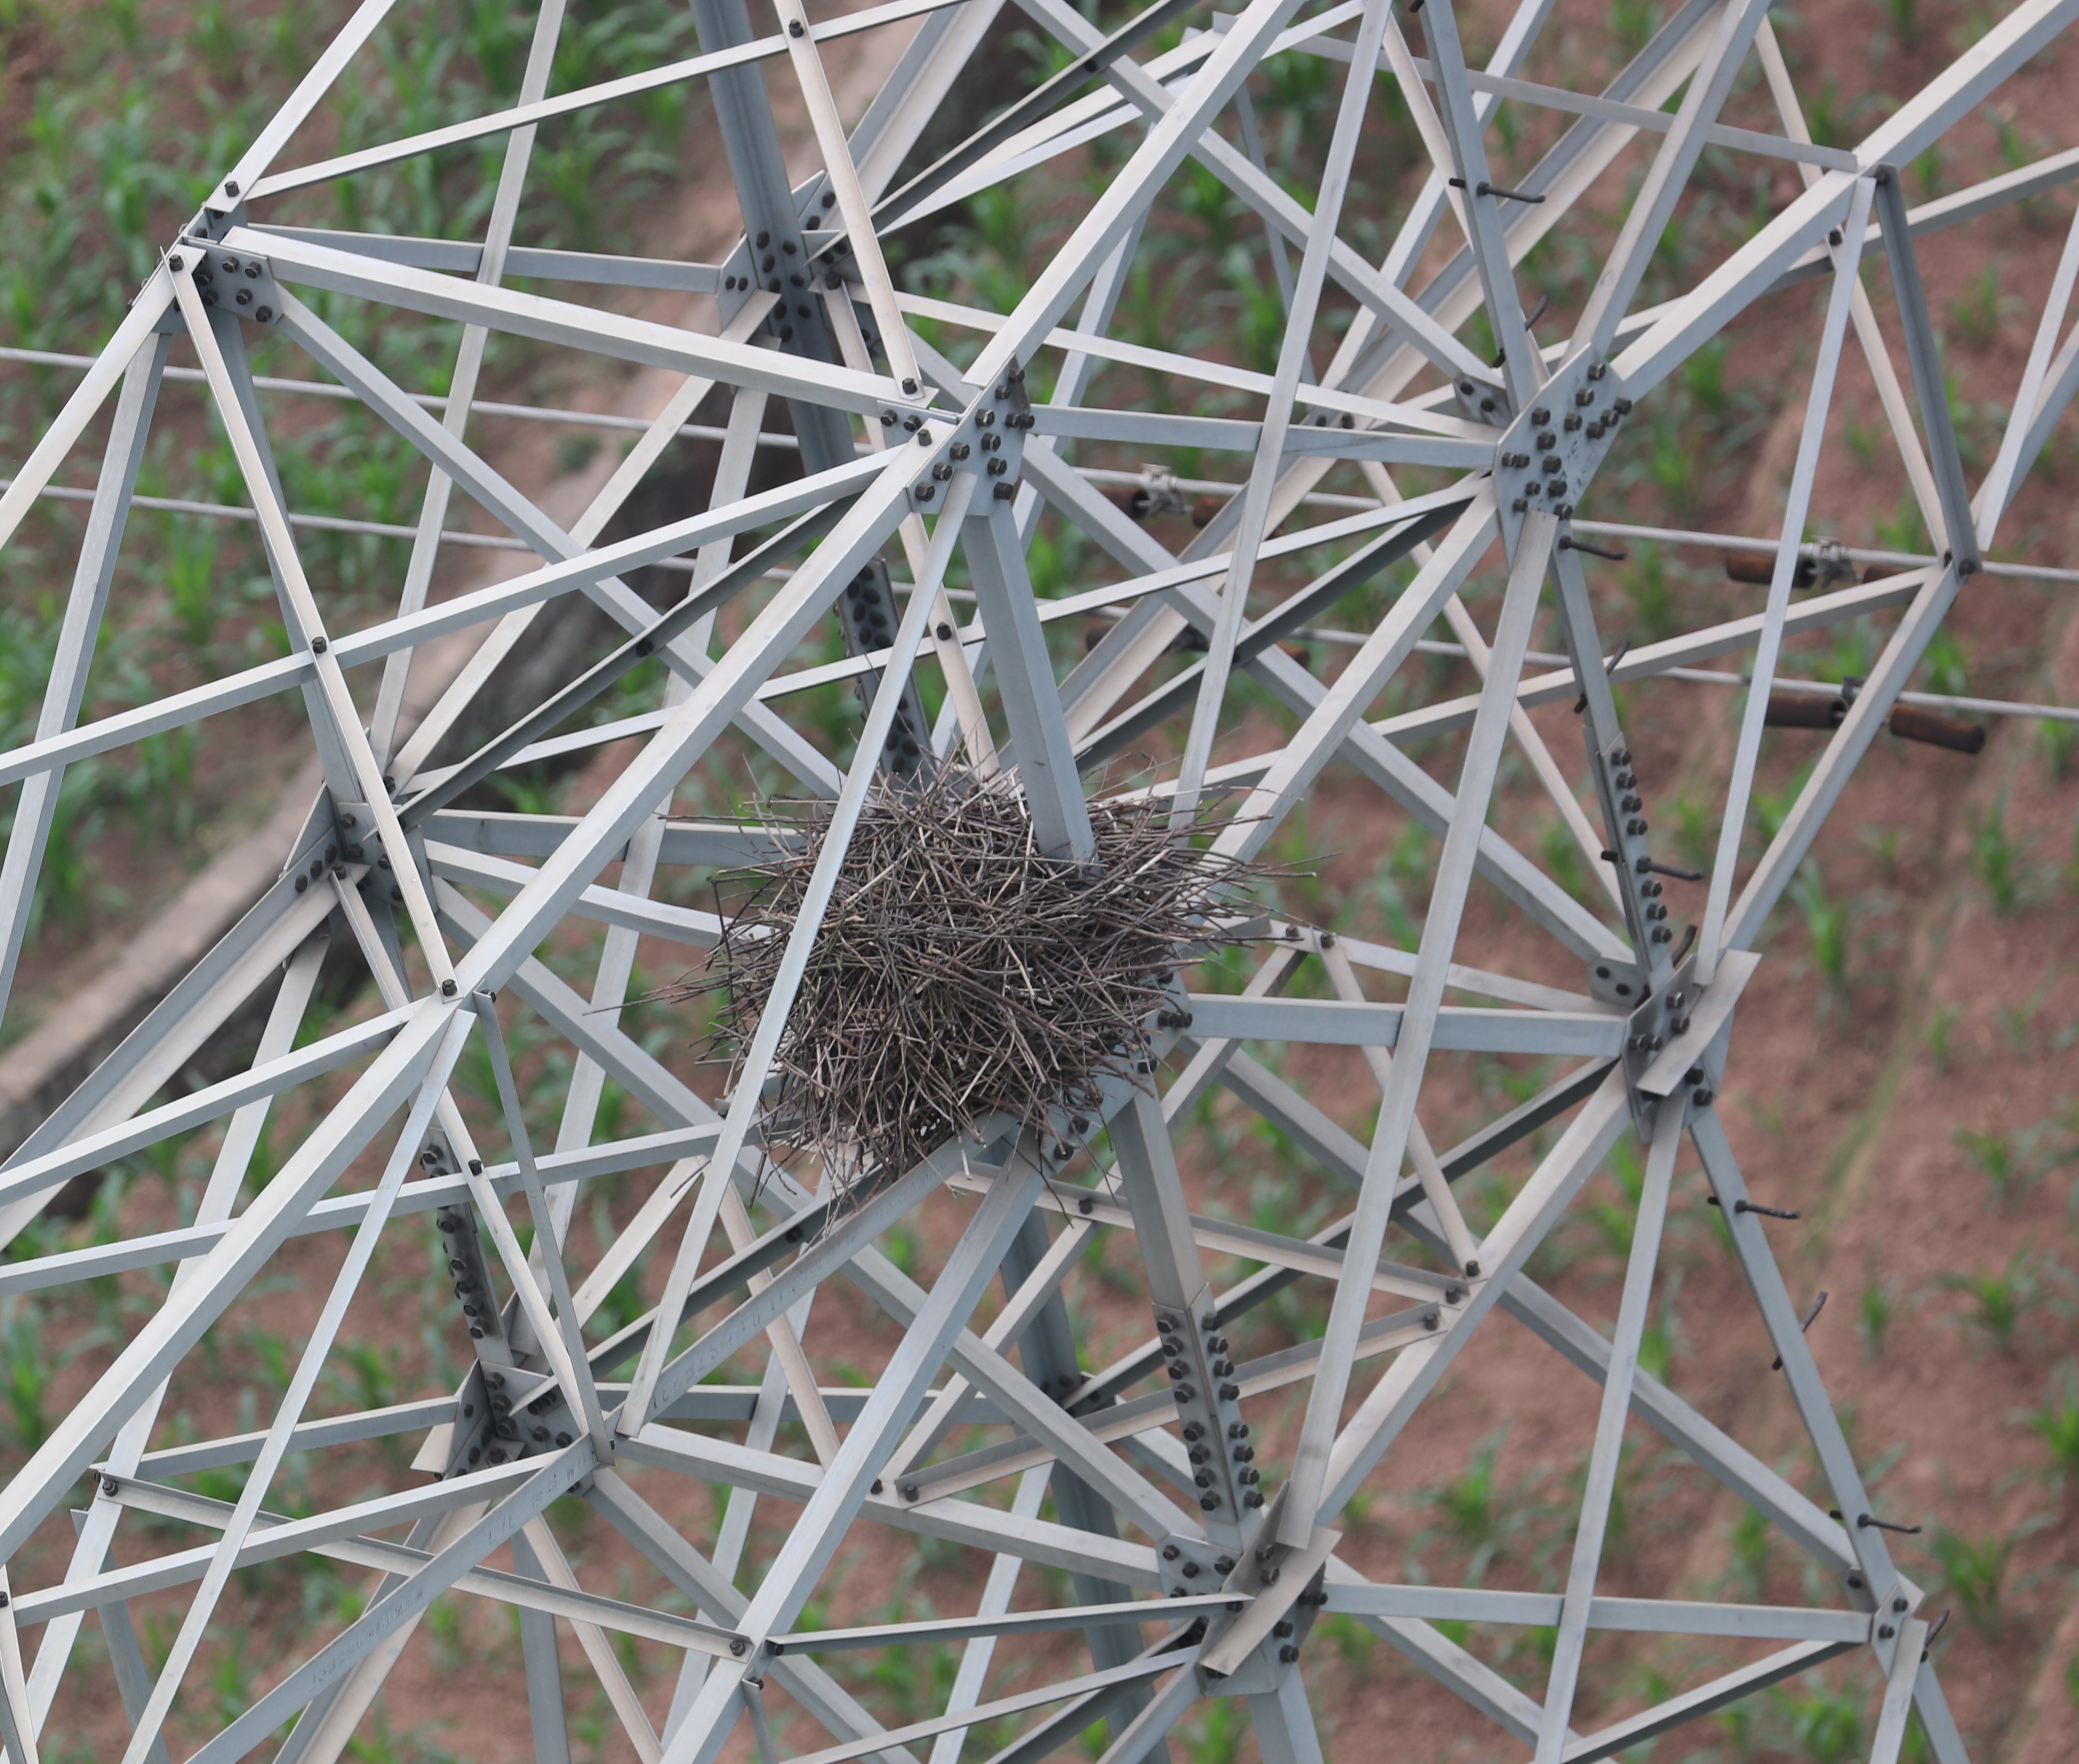niaowo: (698, 737, 1234, 1207)
